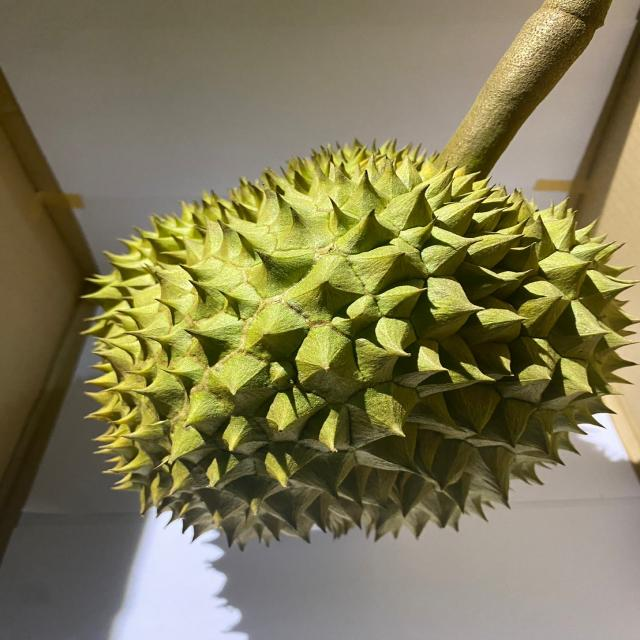immature: (74, 134, 640, 553)
